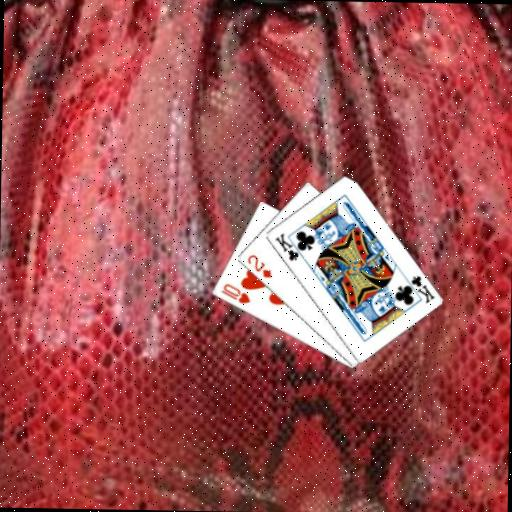10H: (218, 280, 252, 305)
2D: (244, 251, 273, 280)
KC: (401, 272, 437, 305), (271, 230, 306, 263)
